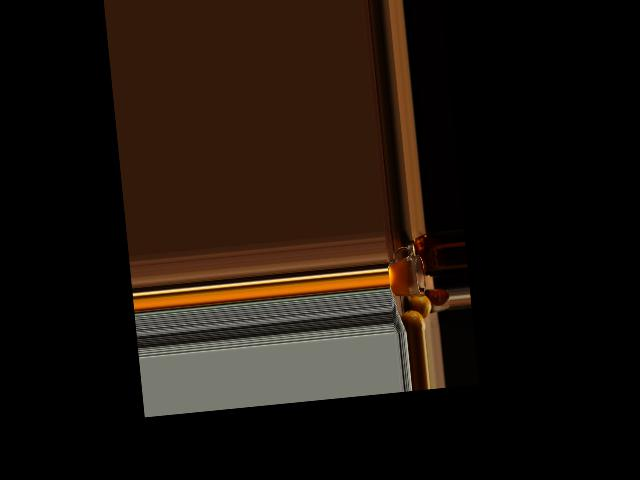lemon: (401, 311, 423, 331)
